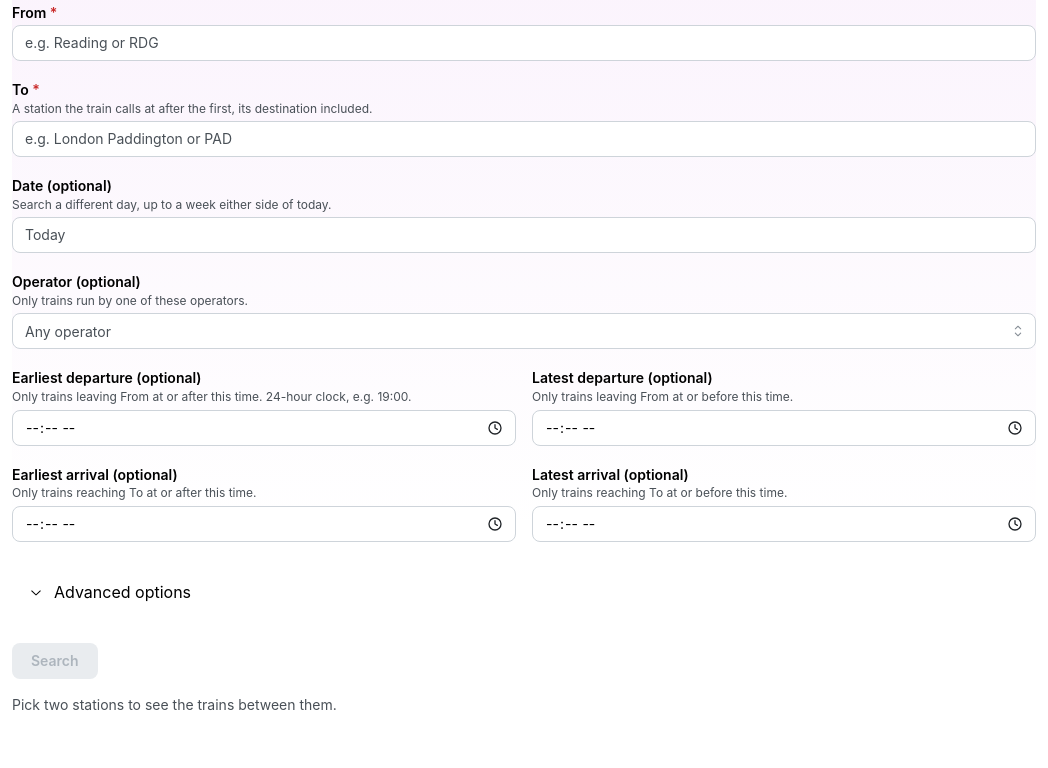
Scenario: TrainSearchForm › needs both stations before it searches between them
This screenshot has width=1048, height=768.
Type "MAN" into the dropdown labelled "From" at [524, 43], box [12,25,1036,61]
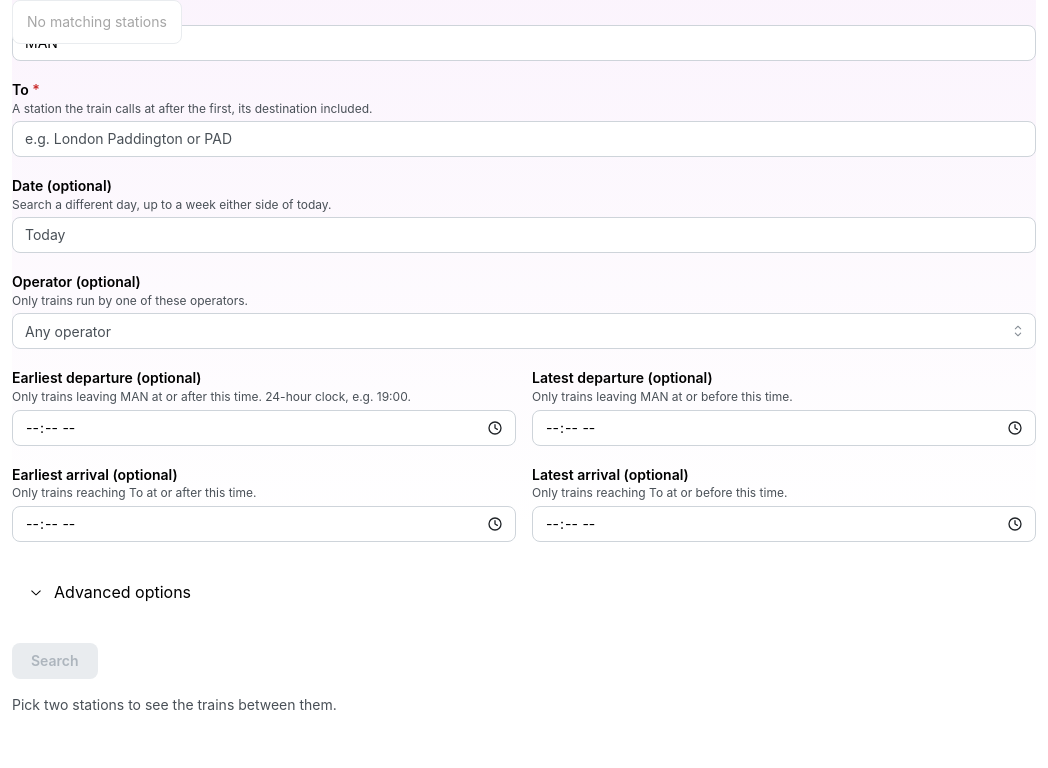
Check: the button "Search" is disabled, box [12,642,98,678]
Type "WAT" into the dropdown labelled "To" at [524, 139], box [12,121,1036,157]
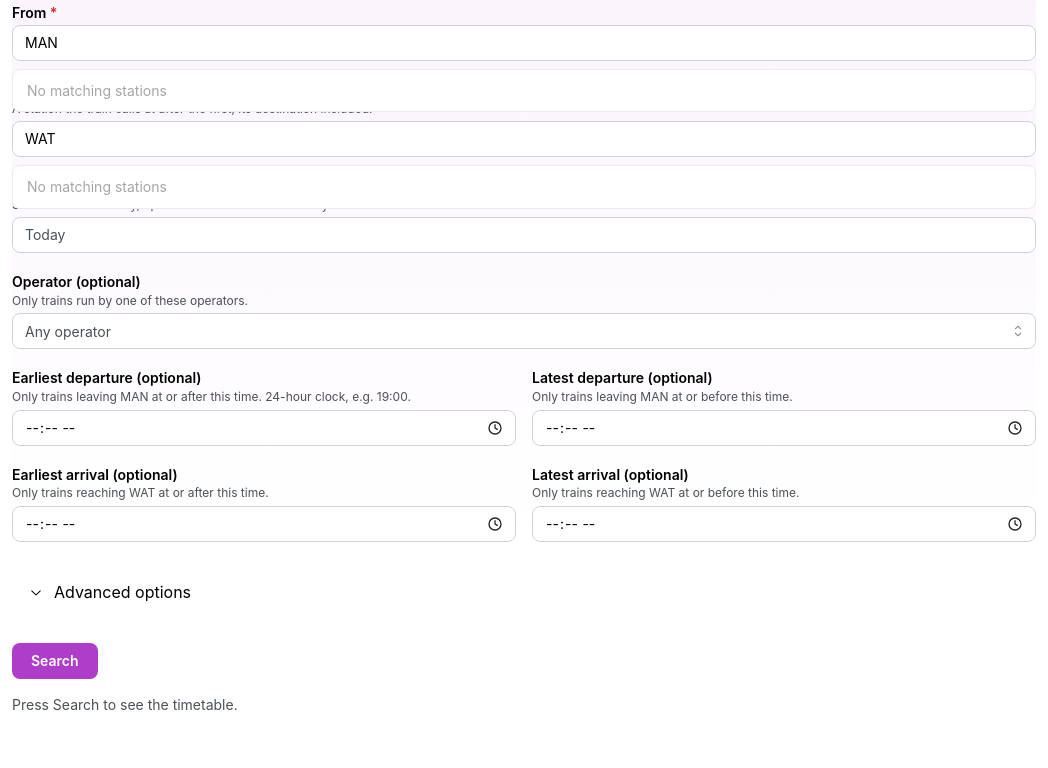
Check: the button "Search" is enabled, box [12,642,98,678]
